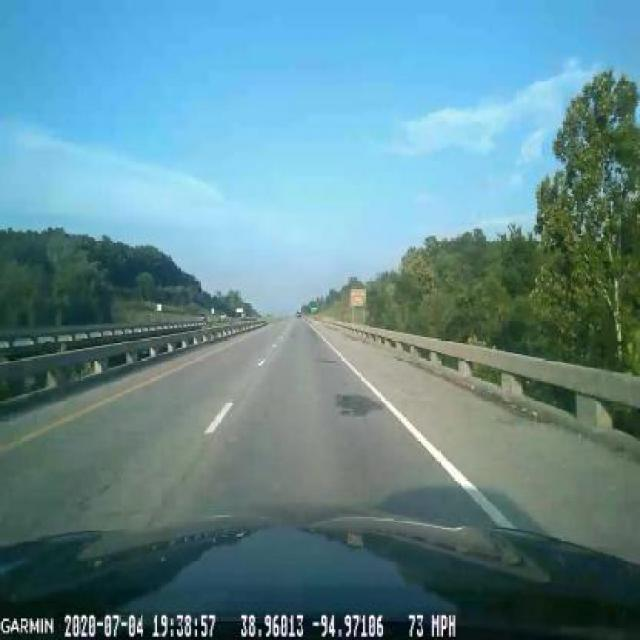Pothole: (330, 376, 385, 432)
